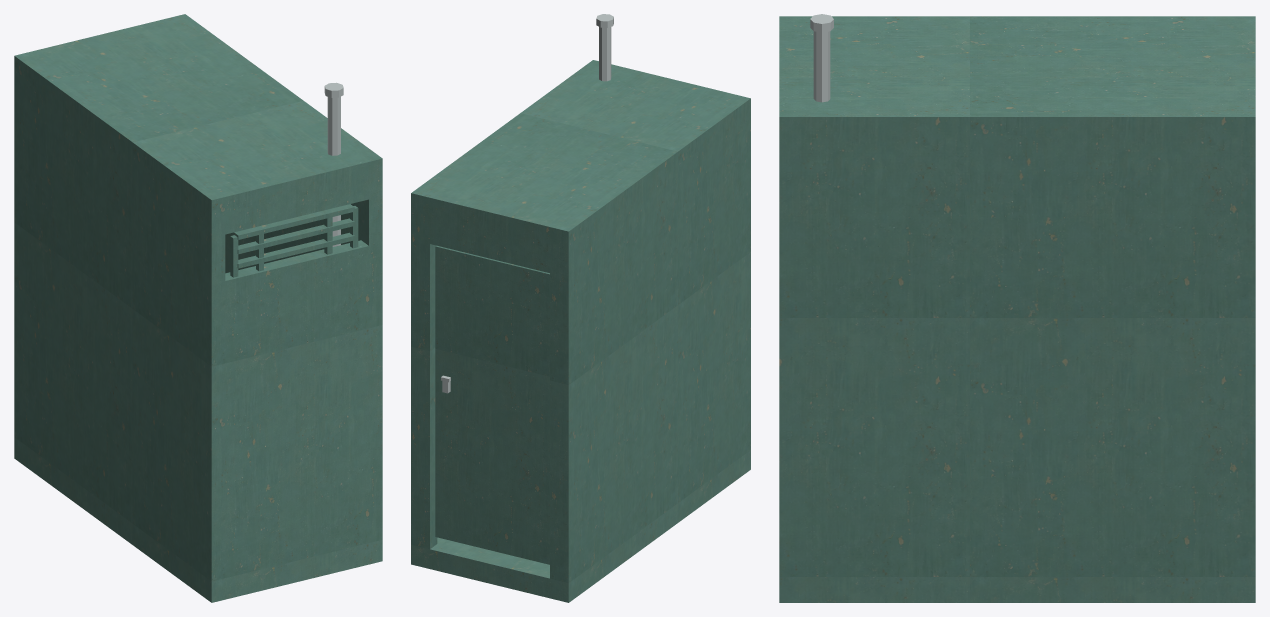
Rendered from bath-outhouse-portable.gltf.
3 views of the same model, side by side, from view 1: azimuth 30°, elevation 25°; view 2: azimuth 150°, elevation 25°; view 3: azimuth 270°, elevation 25° (orthographic). The views are drawn at different scales.
Parts seen in each view (by area): view 1: exterior-blue, roof-blue, floor-blue, roof-metal; view 2: exterior-blue, roof-blue, door-blue, floor-blue, roof-metal; view 3: exterior-blue, roof-blue, floor-blue, roof-metal.
Boxes of the visible parts, x1,y1,x2,y2 form: exterior-blue: [14, 79, 382, 581]; roof-blue: [14, 14, 382, 223]; floor-blue: [14, 437, 382, 602]; roof-metal: [324, 82, 343, 246]; exterior-blue: [411, 120, 750, 582]; roof-blue: [411, 60, 750, 252]; door-blue: [435, 245, 549, 564]; floor-blue: [411, 450, 750, 602]; roof-metal: [596, 14, 613, 81]; exterior-blue: [779, 145, 1255, 576]; roof-blue: [779, 16, 1255, 144]; floor-blue: [779, 577, 1255, 602]; roof-metal: [810, 14, 833, 102].
Size of the model in its own units: 1 by 2.62 by 2.
3 materials, 1 textured.
